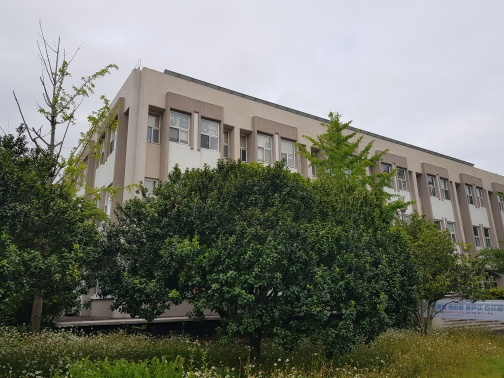Main Building of University: (96, 60, 503, 331)
